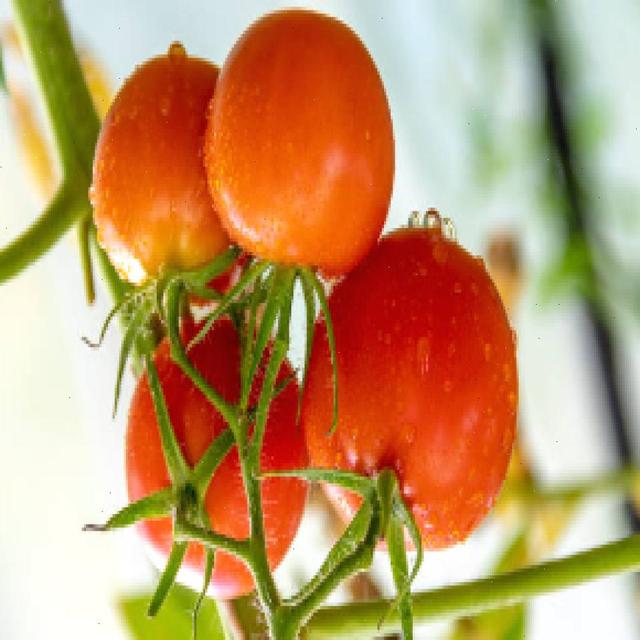Healthy Fruit: (91, 97, 276, 313)
